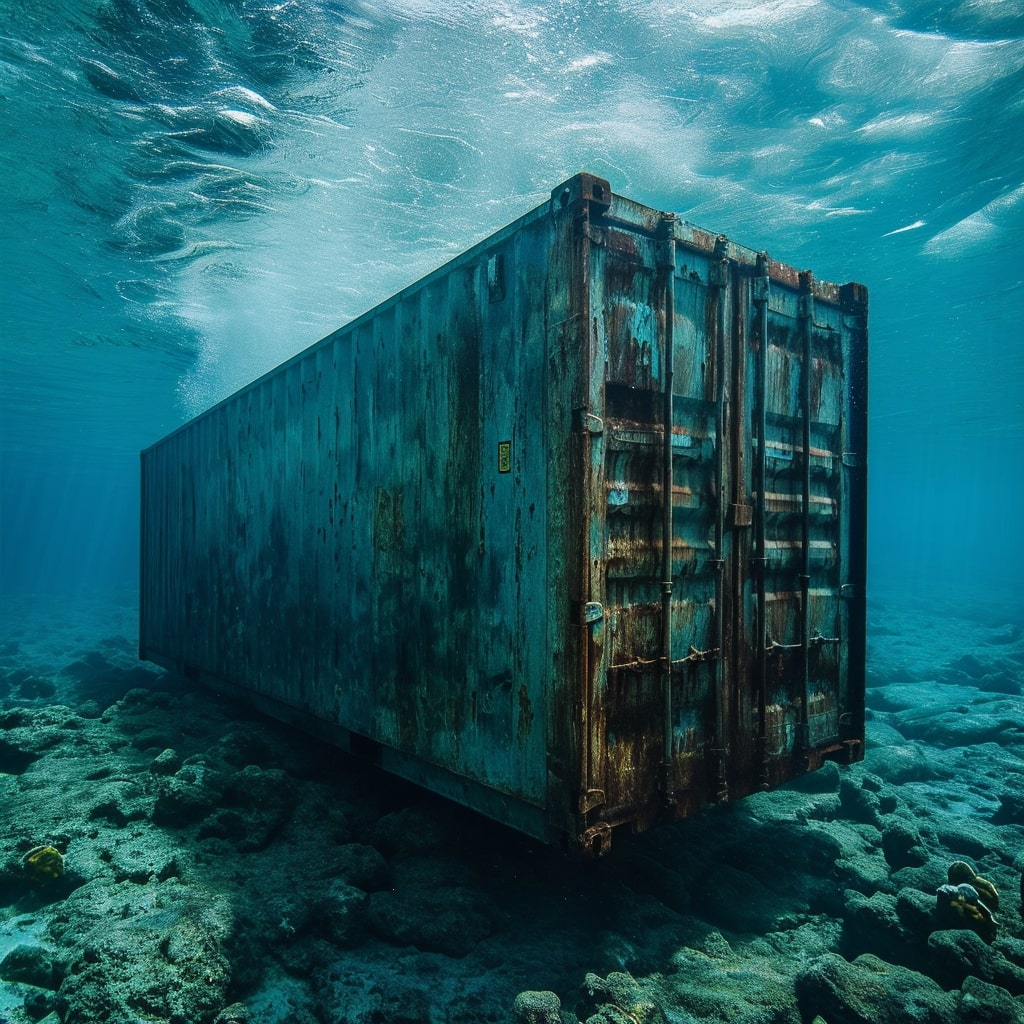Container: (134, 169, 928, 858)
